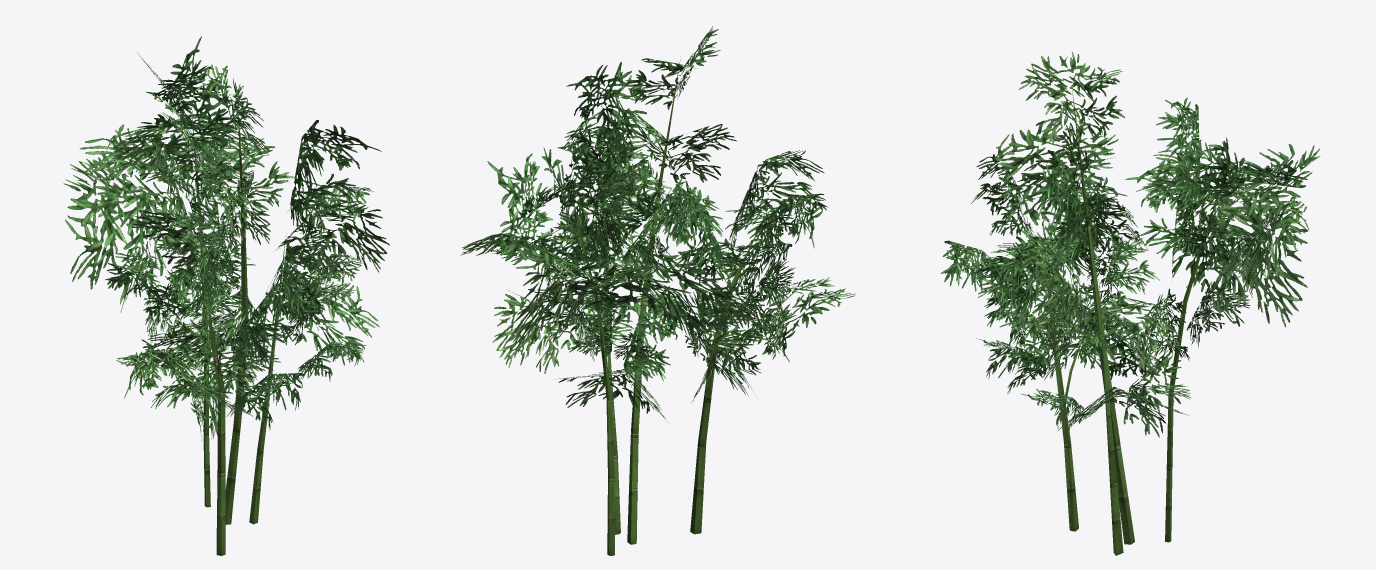
Rendered from tree05_2.FBX.
The picture shows the model from 3 angles, left to right: view 1: azimuth 30°, elevation 25°; view 2: azimuth 150°, elevation 25°; view 3: azimuth 270°, elevation 25°; orthographic projection. The views are drawn at different scales.
Parts seen in each view (by area): view 1: tree05_02Trunk; view 2: tree05_02Trunk; view 3: tree05_02Trunk.
Part boxes in pixels (x1,y1,x2,y2): tree05_02Trunk: (63,36,389,555); tree05_02Trunk: (460,26,855,555); tree05_02Trunk: (941,52,1319,555).
Size of the model in its own units: 854 by 1232 by 1005.
